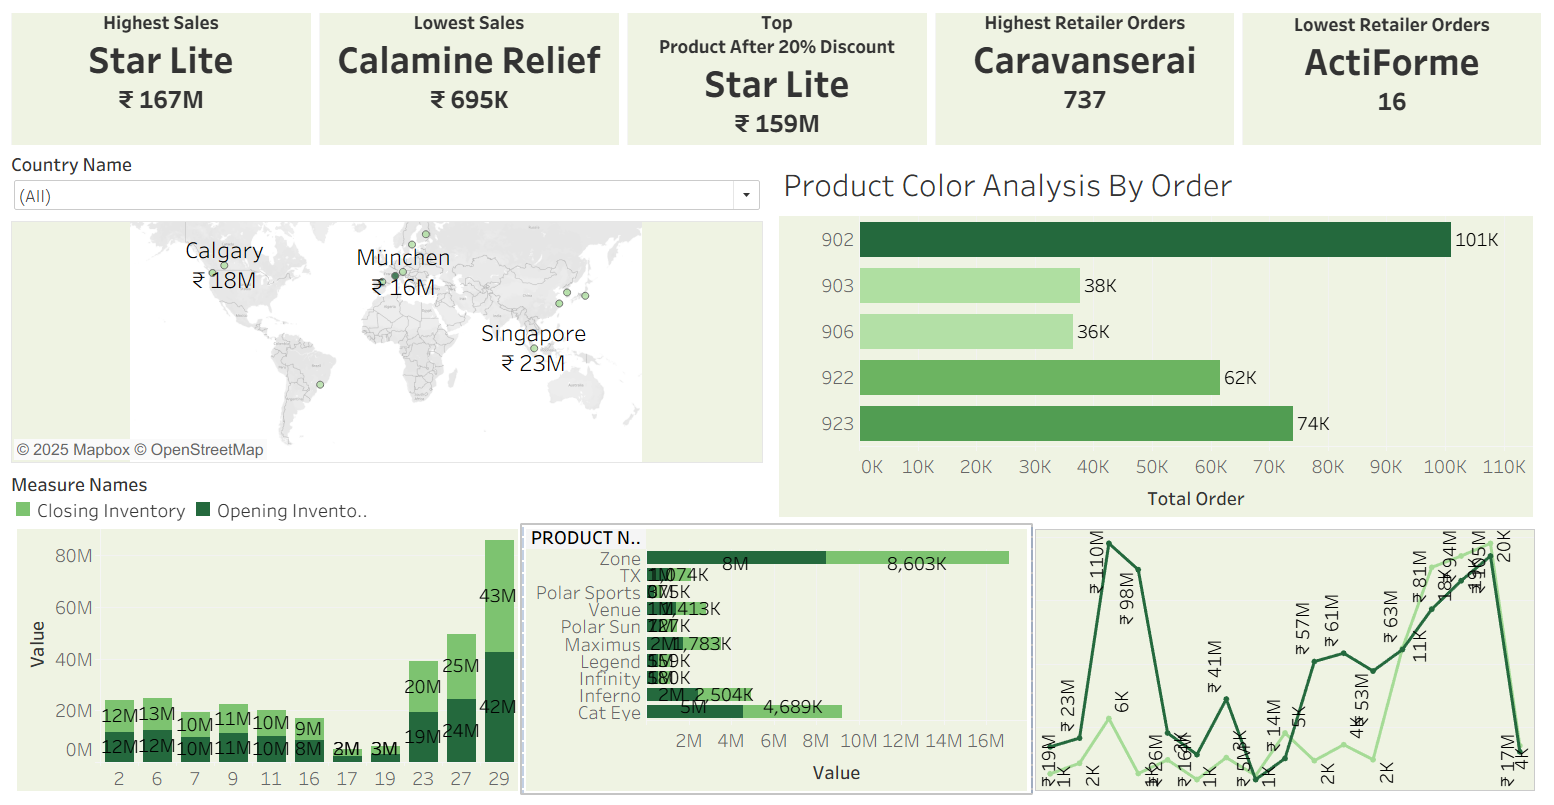

The page's visual inventory and layout, read from the dashboard file:
{"tool":"tableau","page":{"name":"Product and Retailer Analysis Dashboard","canvas":[1000,1000],"units":"permille","ordinal":1},"visuals":[{"type":"worksheet","title":"Highest Sales","mark":"Text","rows":["SALE_TOTAL"],"box":[12.5,18.5,195.1,172.1]},{"type":"worksheet","title":"Lowest Sales","mark":"Text","rows":["SALE_TOTAL"],"box":[207.6,18.5,195.1,172.1]},{"type":"worksheet","title":"Product with Highest Sales even after 20% Discount","mark":"Text","rows":["Calculation_1301258824228646913"],"box":[402.7,18.5,195.1,172.1]},{"type":"worksheet","title":"Highest Retailer Orders","mark":"Text","rows":["Calculation_554224234908151816"],"box":[597.9,18.5,195.1,172.1]},{"type":"worksheet","title":"Lowest Retailer Orders","mark":"Text","rows":["Calculation_554224234908151816"],"box":[793,18.5,195.1,172.1]},{"type":"filter","title":"Sales by City (Map)","param":"[federated.1ao1ng51ba1a7a0zy91v90xm88kz].[none:COUNTRY_NAME:nk]","box":[12.3,188.4,482.3,80.8]},{"type":"worksheet","title":"Product Color Analysis By Order","mark":"Bar","rows":["PRODUCT_COLOR"],"cols":["Calculation_554224234908151816"],"box":[499.6,198.3,483.7,450.7]},{"type":"worksheet","title":"Sales by City (Map)","mark":"Multipolygon","box":[12.3,269.2,482.3,317.8]},{"type":"legend","title":"Warehouse Inventory Comparison","param":"[federated.1ao1ng51ba1a7a0zy91v90xm88kz].[:Measure Names]","box":[12.3,587,482.3,68.1]},{"type":"worksheet","title":"Warehouse Inventory Comparison","mark":"Automatic","cols":["WAREHOUSE_KEY (TBL_DIM_WAREHOUSE_LKP.csv)"],"box":[16.2,653.6,322.9,332.6]},{"type":"worksheet","title":"Top 10 Product-wise Open and Close Inventory","mark":"Automatic","rows":["PRODUCT_NAME (TBL_DIM_PRODUCT.csv1)"],"box":[339.2,653.6,322.9,332.6]},{"type":"worksheet","title":"Product Brand-wise Sales and Orders","mark":"Line","rows":["ORDER_KEY","SALE_TOTAL"],"cols":["PRODUCT_BRAND"],"box":[662.1,653.6,322.9,332.6]}]}

Visuals, with their boxes on the dashboard's canvas, which has no fixed pixel size, in thousandths of its width and height (x1, y1, x2, y2). These are canvas units, not pixel positions in the 1554x805 screenshot, which may show the page scaled, cropped or inside an application window:
"Highest Sales" worksheet (Text marks): [12,18,208,191]
"Lowest Sales" worksheet (Text marks): [208,18,403,191]
"Product with Highest Sales even after 20% Discount" worksheet (Text marks): [403,18,598,191]
"Highest Retailer Orders" worksheet (Text marks): [598,18,793,191]
"Lowest Retailer Orders" worksheet (Text marks): [793,18,988,191]
"Sales by City (Map)" filter: [12,188,495,269]
"Product Color Analysis By Order" worksheet (Bar marks): [500,198,983,649]
"Sales by City (Map)" worksheet (Multipolygon marks): [12,269,495,587]
"Warehouse Inventory Comparison" legend: [12,587,495,655]
"Warehouse Inventory Comparison" worksheet: [16,654,339,986]
"Top 10 Product-wise Open and Close Inventory" worksheet: [339,654,662,986]
"Product Brand-wise Sales and Orders" worksheet (Line marks): [662,654,985,986]
